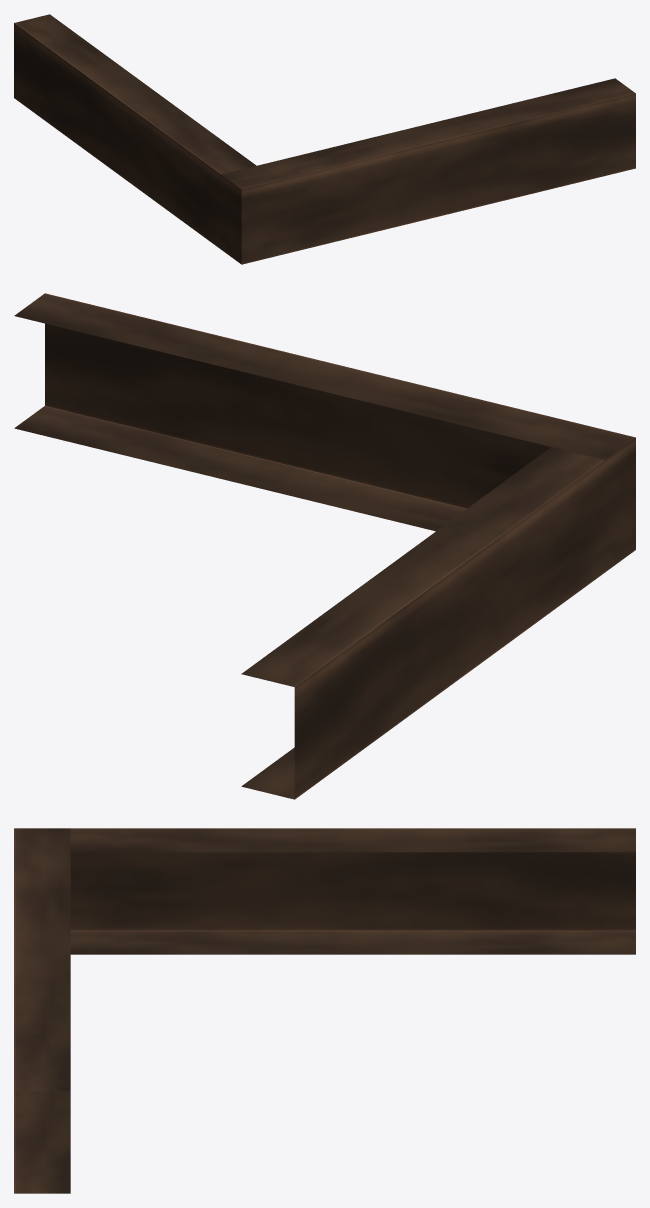
File: floor_beam_corner_1.fbx
3 views of the same model, one above another, from view 1: azimuth 30°, elevation 25°; view 2: azimuth 150°, elevation 25°; view 3: azimuth 270°, elevation 25° (orthographic). The views are drawn at different scales.
Parts seen in each view (by area): view 1: floor_beam_corner_1; view 2: floor_beam_corner_1; view 3: floor_beam_corner_1.
Part boxes in pixels (x1,y1,x2,y2): floor_beam_corner_1: [14, 14, 635, 264]; floor_beam_corner_1: [14, 293, 635, 799]; floor_beam_corner_1: [14, 828, 635, 1193].
Bounding box in the file's own units: 110 × 20 × 110.
